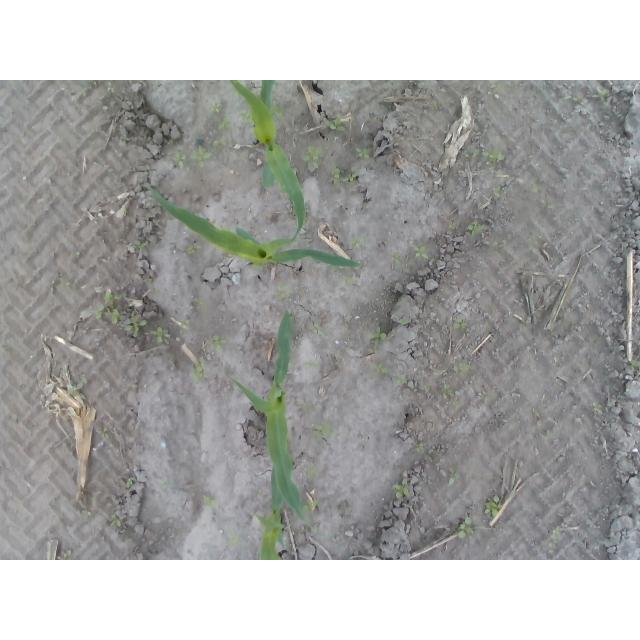Maize: (147, 181, 358, 272), (232, 310, 317, 531), (228, 81, 309, 244), (257, 466, 287, 560)
Weeds: (95, 288, 120, 325), (300, 143, 321, 170), (463, 150, 506, 163), (271, 282, 294, 303), (124, 318, 148, 338), (311, 423, 337, 441), (191, 144, 209, 170), (392, 479, 413, 500), (457, 515, 475, 539), (49, 280, 76, 296), (483, 494, 499, 518), (368, 326, 387, 346), (452, 359, 473, 377), (328, 161, 342, 187), (192, 358, 205, 383), (326, 116, 345, 133), (367, 361, 389, 375), (175, 149, 189, 171), (210, 334, 226, 353), (447, 466, 461, 487), (466, 222, 483, 239), (304, 465, 320, 481), (239, 110, 254, 126), (414, 246, 430, 261), (110, 514, 127, 528), (185, 241, 202, 255), (207, 138, 225, 151), (218, 114, 233, 129), (271, 104, 285, 120), (307, 320, 321, 336), (151, 325, 167, 339), (303, 497, 318, 511), (352, 238, 369, 250), (561, 93, 579, 104), (78, 80, 90, 96), (303, 359, 322, 369), (203, 496, 218, 508), (56, 549, 72, 560), (552, 526, 561, 545), (442, 383, 451, 402), (356, 147, 369, 159), (396, 374, 409, 386), (179, 320, 190, 333), (454, 319, 467, 330), (134, 241, 146, 252), (628, 359, 640, 370), (415, 442, 426, 454), (493, 186, 503, 199), (211, 102, 222, 113), (592, 403, 603, 414), (391, 254, 402, 265), (101, 428, 111, 440), (344, 173, 356, 183), (228, 536, 241, 545), (599, 89, 610, 99), (125, 302, 137, 310), (423, 383, 432, 393), (126, 479, 134, 490), (193, 296, 204, 304), (448, 222, 457, 231), (72, 384, 81, 393), (342, 276, 352, 284), (399, 319, 409, 327)
